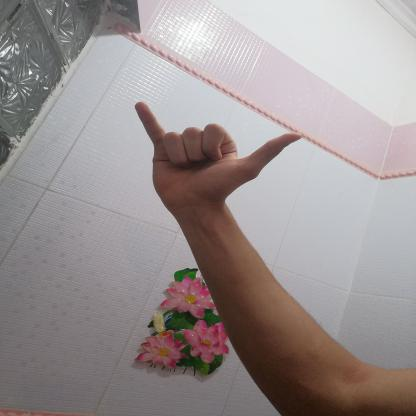YA: (120, 89, 317, 216)
